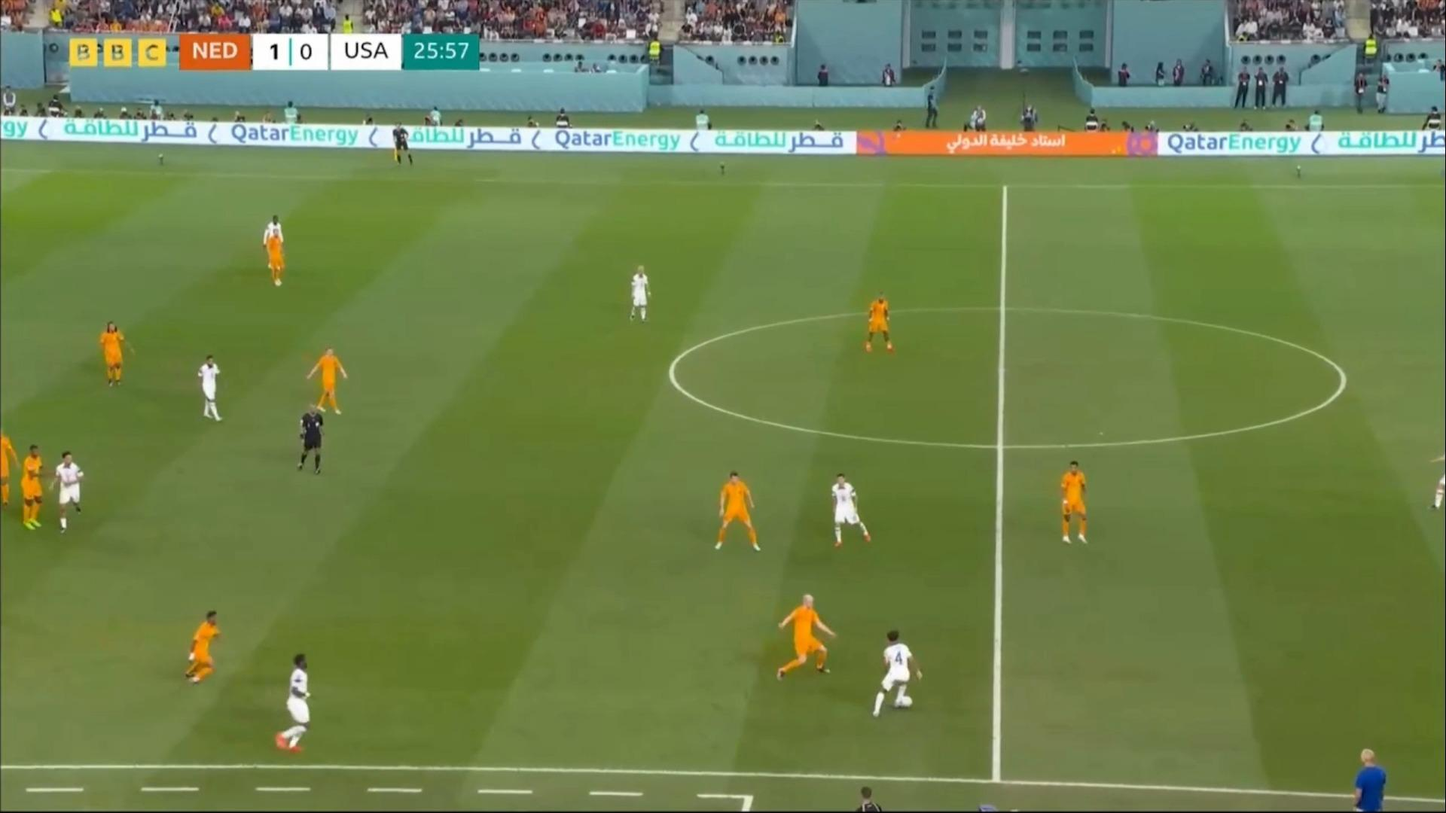Ball: (898, 694, 913, 709)
Player: (269, 646, 325, 758), (775, 591, 838, 681), (873, 628, 927, 718), (708, 468, 761, 558), (180, 610, 232, 691), (43, 448, 93, 532), (1052, 460, 1097, 550), (14, 439, 55, 531), (826, 468, 870, 552), (307, 344, 350, 422), (194, 351, 234, 429), (96, 317, 133, 392), (261, 212, 294, 292), (858, 288, 895, 357), (1352, 749, 1387, 812), (0, 427, 22, 509), (624, 264, 652, 326), (1429, 448, 1446, 512)
Ref: (291, 400, 330, 482), (389, 129, 411, 169)
